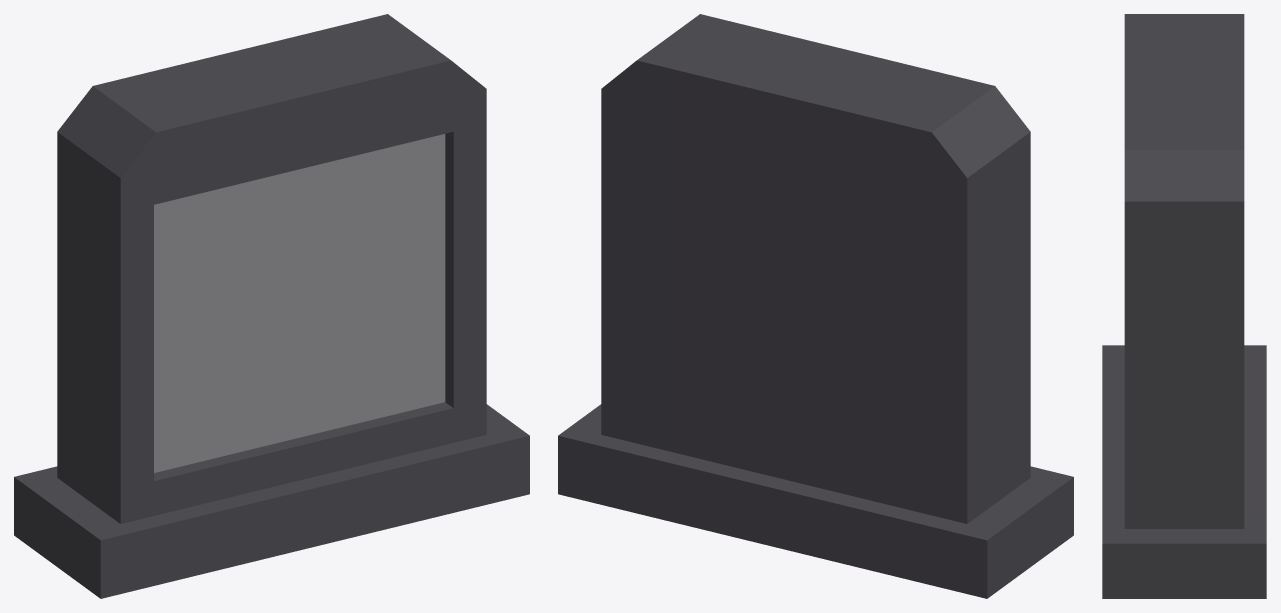
File: TombStone02.glb
3 views of the same model, side by side, from view 1: azimuth 30°, elevation 25°; view 2: azimuth 150°, elevation 25°; view 3: azimuth 270°, elevation 25° (orthographic). The views are drawn at different scales.
Visible parts, largest first — view 1: TombStone02; view 2: TombStone02; view 3: TombStone02.
Boxes of the visible parts, x1,y1,x2,y2 form: TombStone02: (14, 14, 529, 598); TombStone02: (558, 14, 1073, 598); TombStone02: (1102, 14, 1266, 598).
Size of what is drawn, in the model's own units: 1.07 by 1.05 by 0.3753.
1 material, 1 textured.
